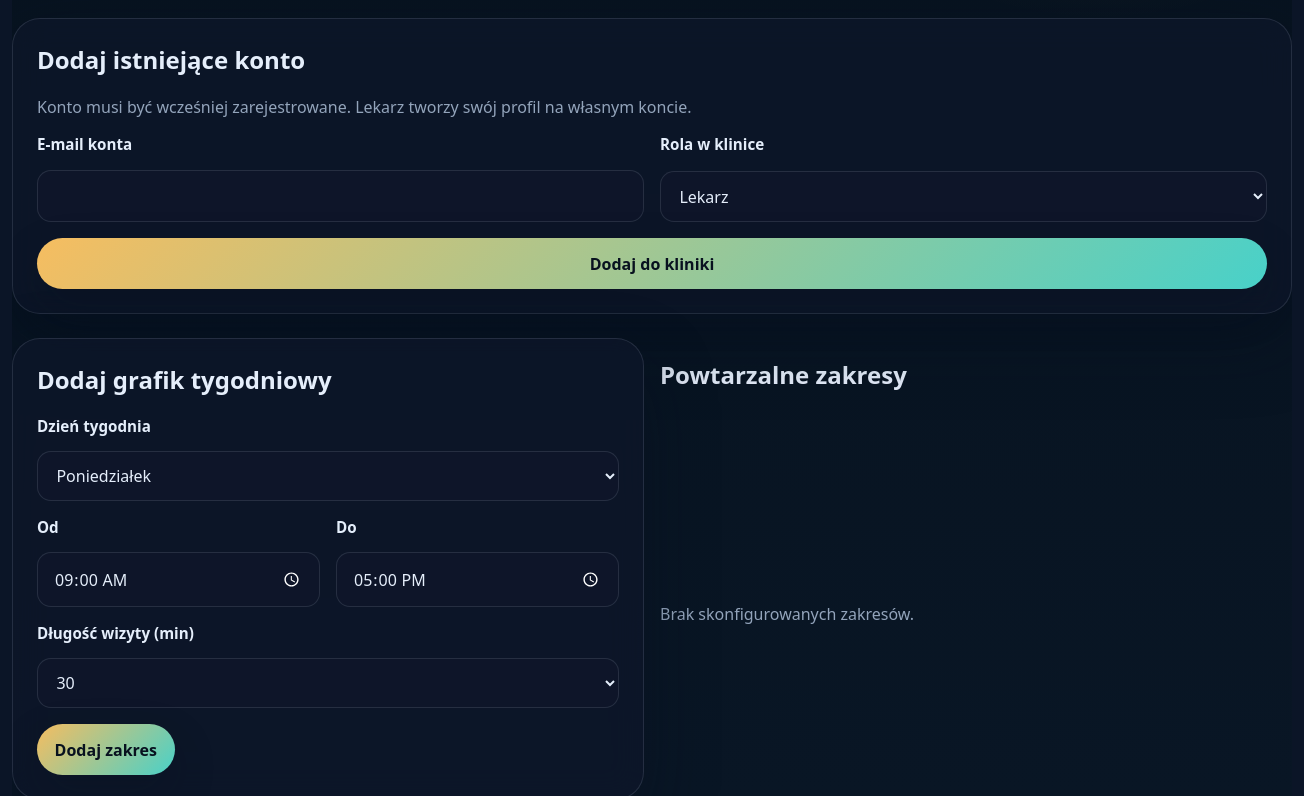
ClinicSchedule page › creates a weekly schedule through the clinic API
The image size is (1304, 796).
(page scrolled)
Check: the text "Brak skonfigurowanych zakresów." is shown, box [660, 602, 914, 624]
Click the button "Dodaj zakres" at {"x": 106, "y": 750}, box [37, 724, 174, 775]
(page scrolled)
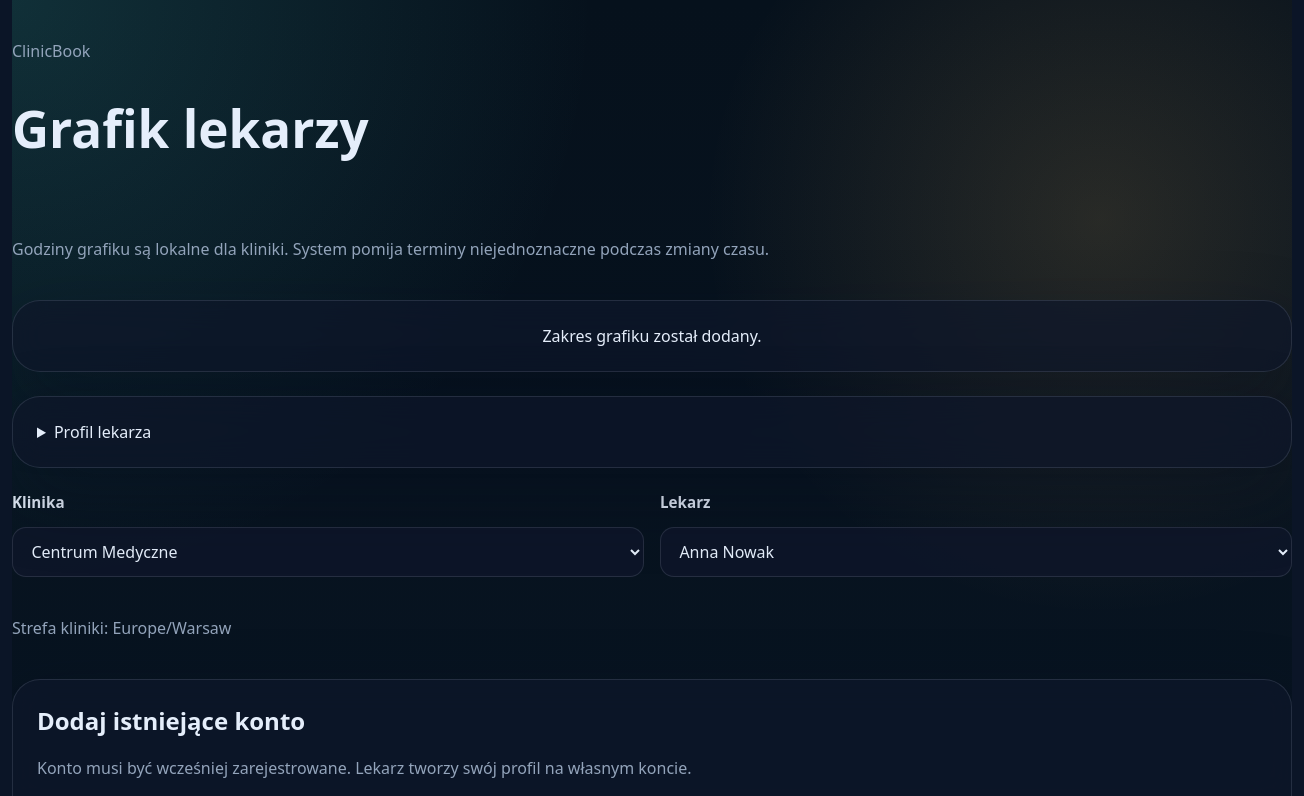
Check: the message reads "Zakres grafiku został dodany.", box [542, 325, 762, 347]
